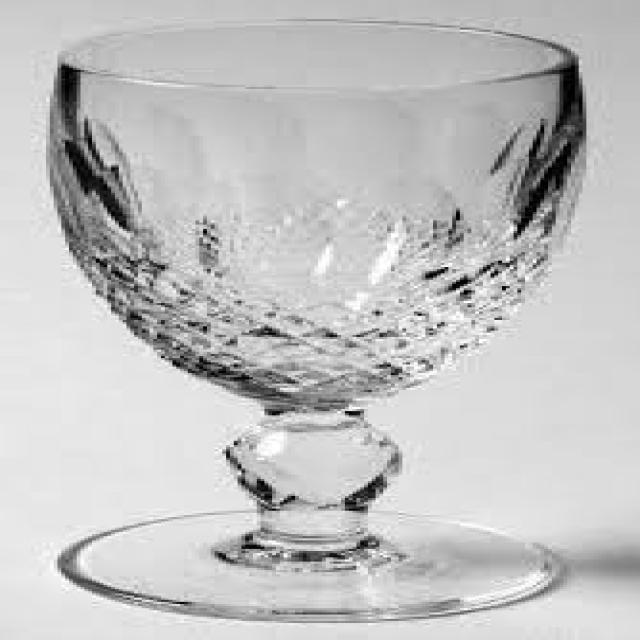Glass: (44, 19, 593, 626)
